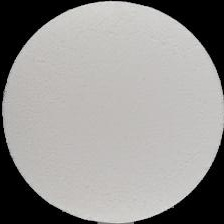0591-0397: (0, 0, 224, 224)
